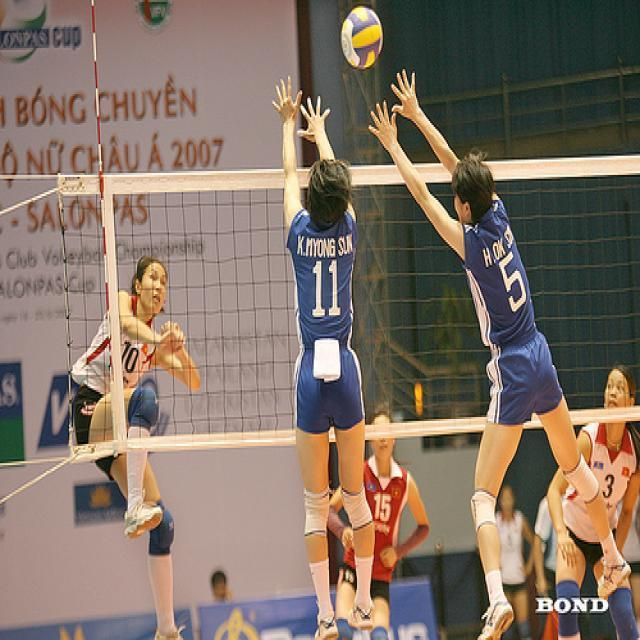volleyball: (341, 6, 383, 68)
